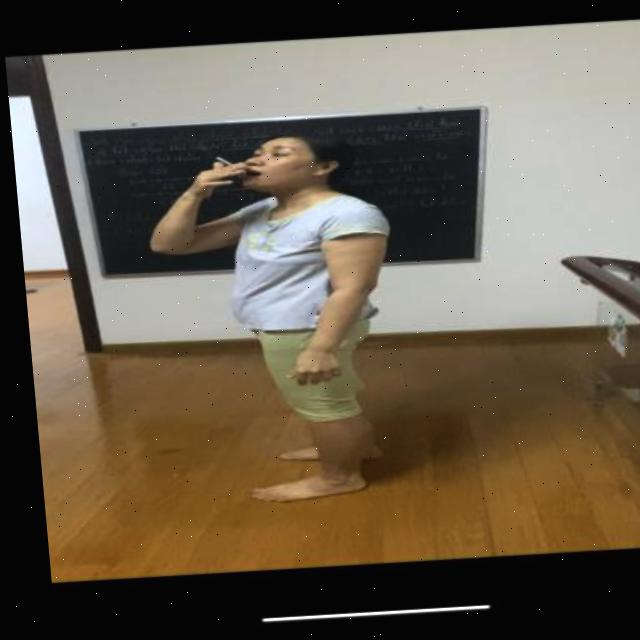cigarette: (210, 158, 230, 169)
